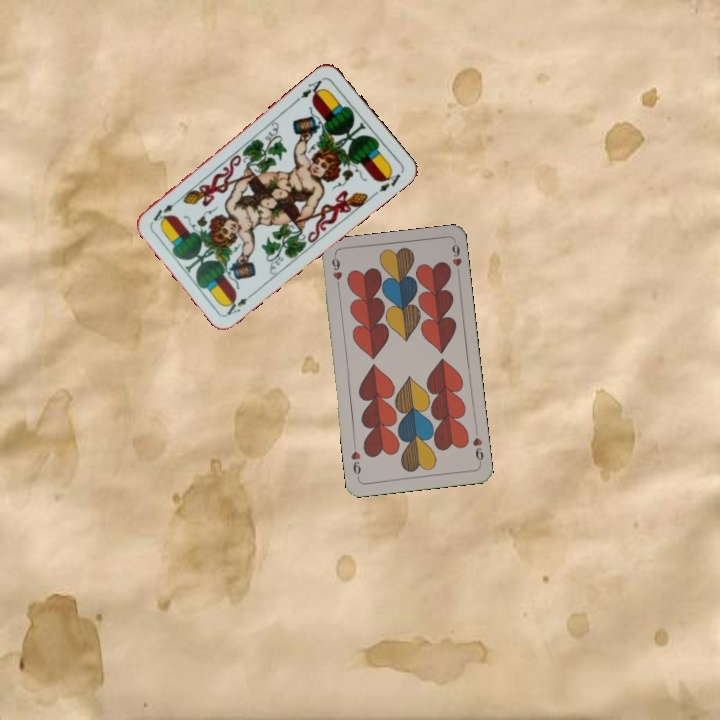EA: (221, 288, 258, 318), (292, 74, 327, 104)
H9: (469, 426, 486, 467), (328, 253, 344, 293)
